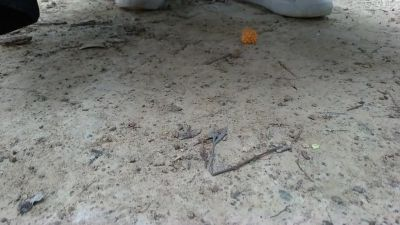eggs: (238, 25, 260, 45)
